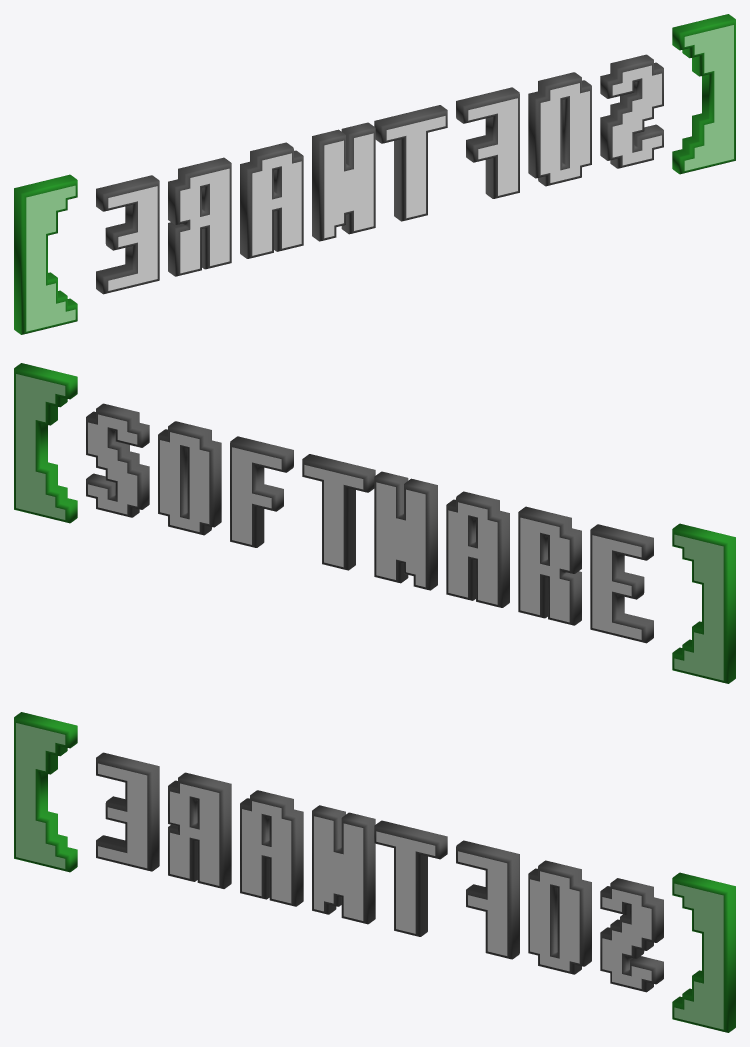
Rendered from SOFTWARE.fbx.
The picture shows the model from 3 angles, top to bottom: view 1: azimuth 30°, elevation 25°; view 2: azimuth 150°, elevation 25°; view 3: azimuth 330°, elevation 25°; orthographic projection.
Parts seen in each view (by area): view 1: Text, Text.001; view 2: Text, Text.001; view 3: Text, Text.001.
Part boxes in pixels (x1,y1,x2,y2): Text: (26, 25, 733, 331); Text.001: (14, 14, 735, 334); Text: (16, 374, 723, 680); Text.001: (14, 363, 735, 683); Text: (16, 723, 723, 1029); Text.001: (14, 712, 735, 1032).
Bounding box in the file's own units: 11133 × 2106 × 280.
